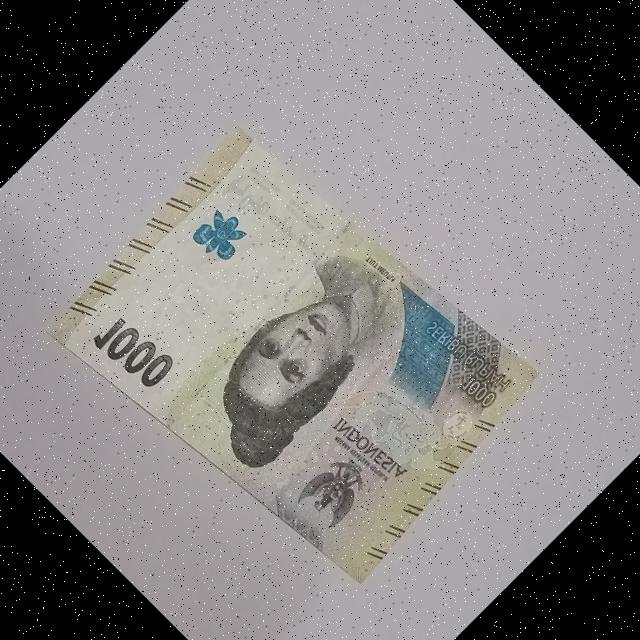1K: (27, 85, 571, 629)
